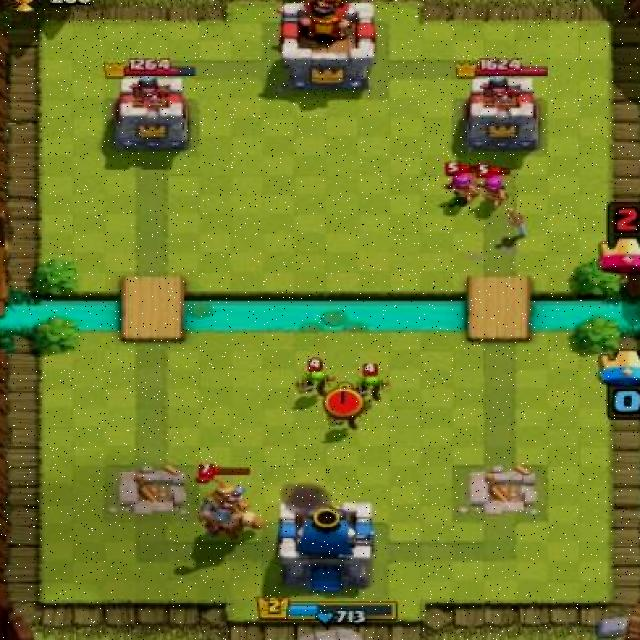Enemy-Archer: (441, 161, 480, 204), (476, 164, 511, 206)
Enemy-Goblin: (324, 389, 371, 432), (293, 356, 337, 397), (350, 362, 390, 404)
Enemy-Prince: (193, 462, 263, 542)
